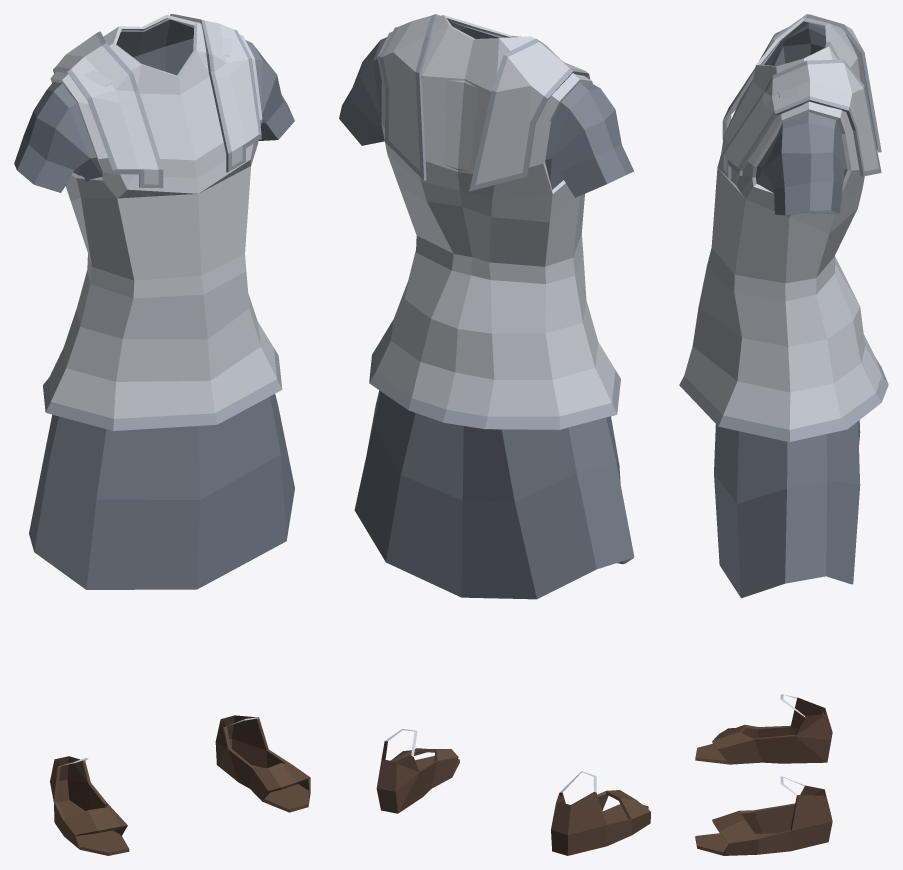
The model's file is M Greek Archer.fbx.
The picture shows the model from 3 angles, left to right: view 1: azimuth 30°, elevation 25°; view 2: azimuth 150°, elevation 25°; view 3: azimuth 270°, elevation 25°; orthographic projection. The views are drawn at different scales.
Visible parts, largest first — view 1: M Greek Archer; view 2: M Greek Archer; view 3: M Greek Archer.
Boxes of the visible parts, x1,y1,x2,y2 form: M Greek Archer: (14,14,310,855); M Greek Archer: (339,14,650,855); M Greek Archer: (679,14,888,855).
Bounding box in the file's own units: 113 × 304 × 75.4.
